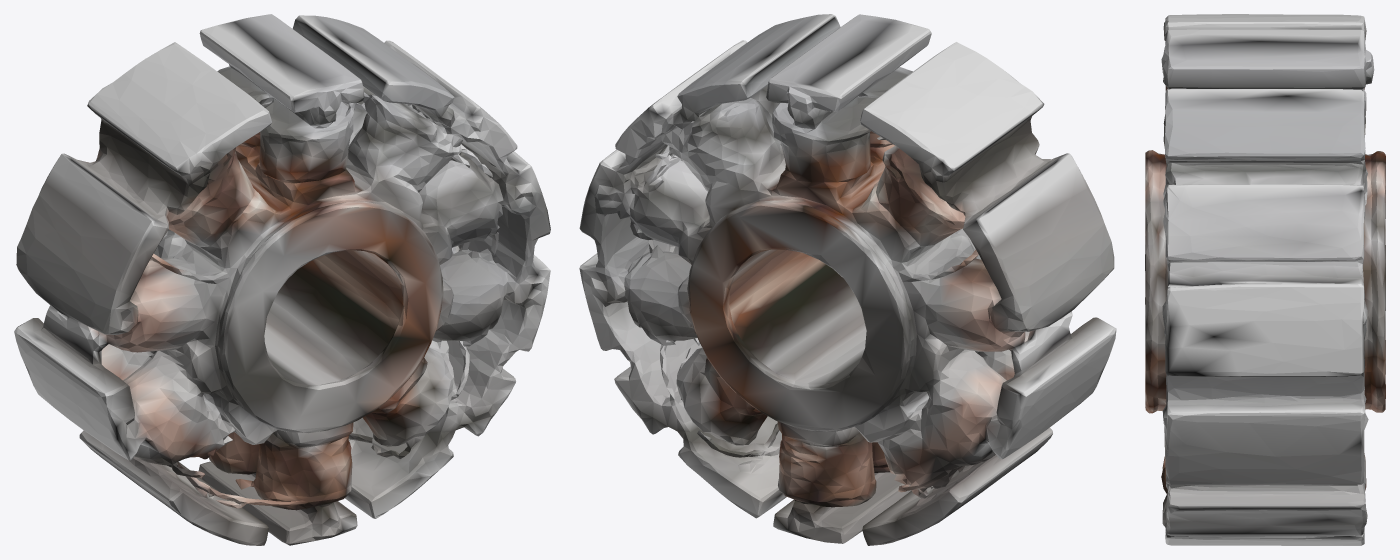
Rendered from motor.glb.
3 renders of one model, left to right at view 1: azimuth 30°, elevation 25°; view 2: azimuth 150°, elevation 25°; view 3: azimuth 270°, elevation 25°, orthographic. The views are drawn at different scales.
Visible parts, largest first — view 1: tmp85a5xu6d.ply; view 2: tmp85a5xu6d.ply; view 3: tmp85a5xu6d.ply.
Part boxes in pixels (box(x1,y1,x2,y2)): tmp85a5xu6d.ply: box(14, 14, 550, 545); tmp85a5xu6d.ply: box(579, 14, 1116, 545); tmp85a5xu6d.ply: box(1145, 14, 1385, 545).
Size of the model in its own units: 1 by 0.9664 by 0.4377.
